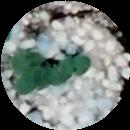Basil: (15, 67, 42, 97), (38, 67, 69, 86), (62, 55, 92, 74), (11, 55, 40, 69)
